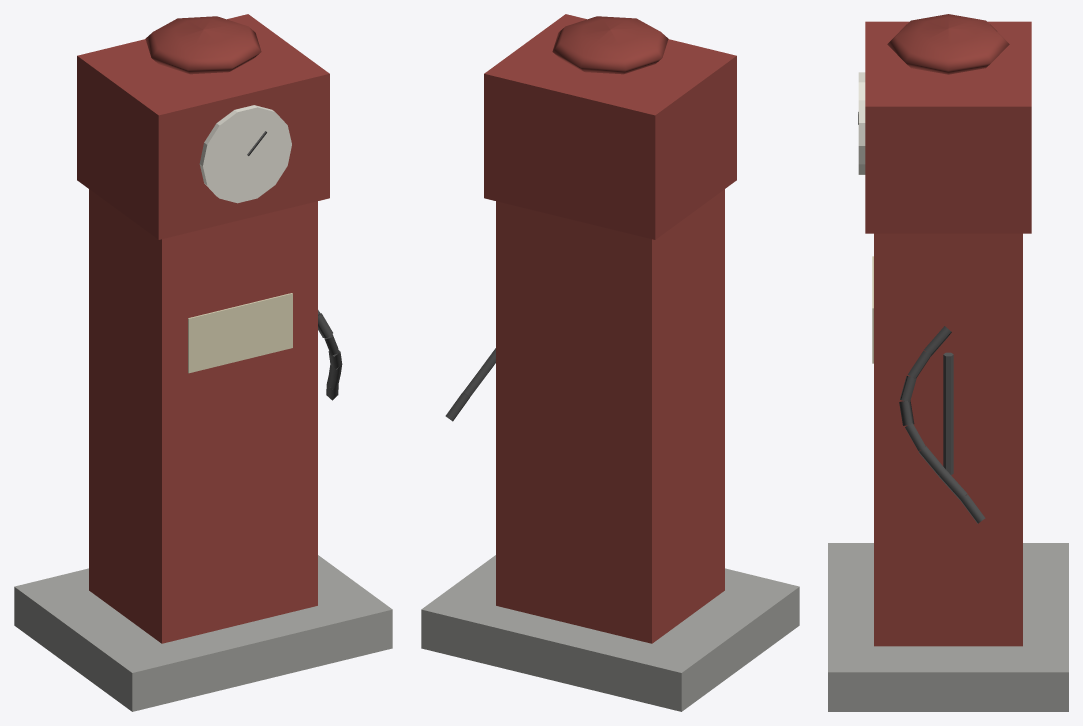
Rendered from garage_fuel_pump_a.glb.
The picture shows the model from 3 angles, left to right: view 1: azimuth 30°, elevation 25°; view 2: azimuth 150°, elevation 25°; view 3: azimuth 270°, elevation 25°; orthographic projection.
Parts seen in each view (by area): view 1: body; view 2: body; view 3: body.
Part boxes in pixels (x1,y1,x2,y2): body: [14, 14, 392, 711]; body: [421, 14, 799, 711]; body: [828, 14, 1068, 711].
Size of what is drawn, in the model's own units: 0.7522 by 1.56 by 0.55.
